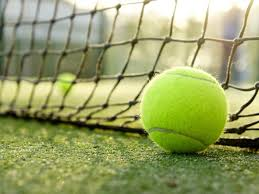tennis_ball: (138, 66, 228, 155), (55, 72, 78, 95)
